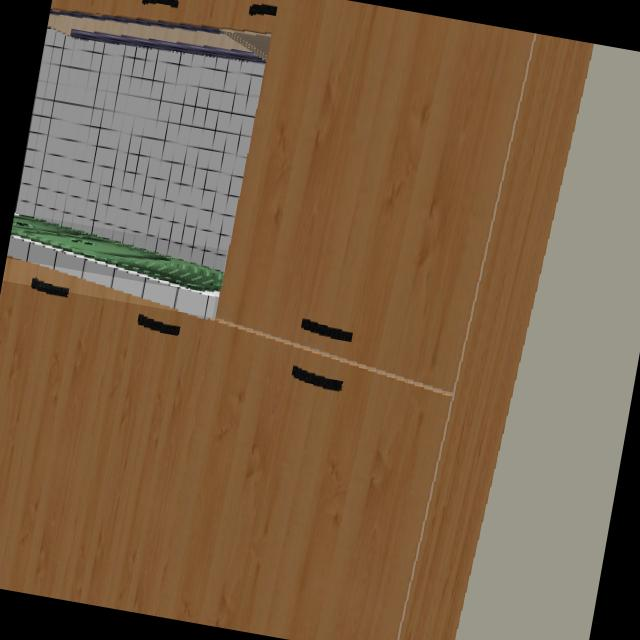cabinet: (0, 0, 594, 640)
countertop: (6, 238, 217, 316)
sink: (9, 213, 222, 294)
